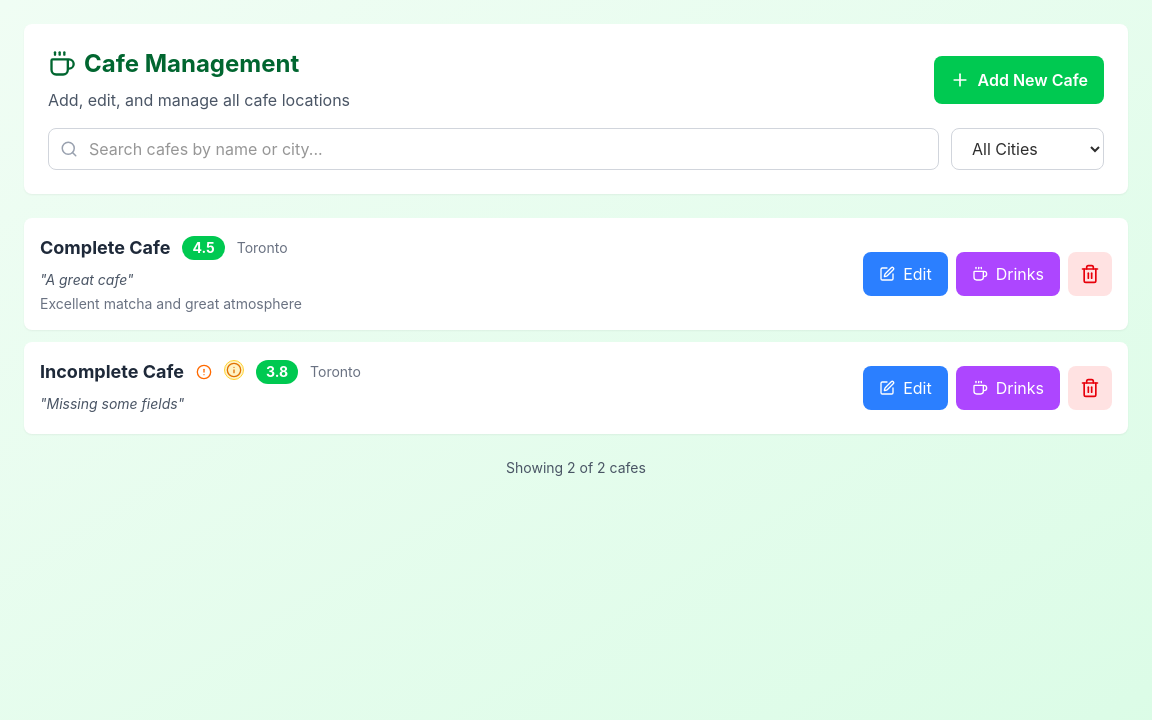
Test: CafeManagementPage › MissingFieldsIndicator › closes tooltip when clicking outside
# Click to show tooltip
Click the icon with test id "lucide-info": point(234, 370) [226,362,242,378]
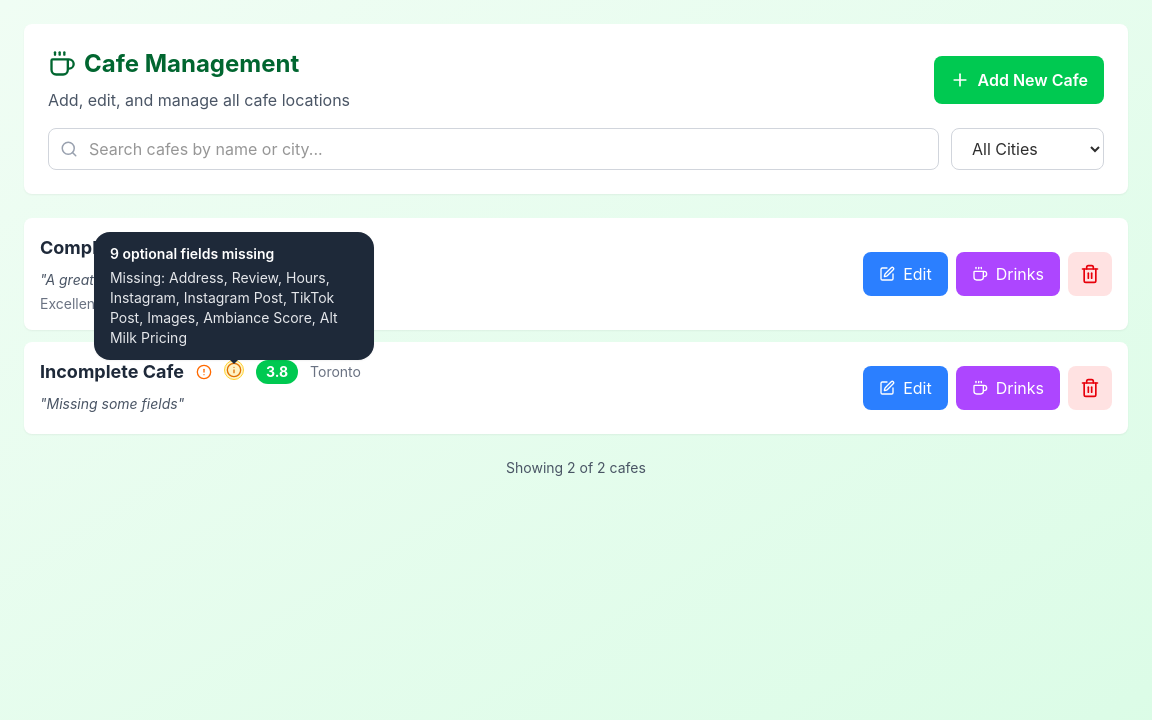
Expected: the text "9 optional fields missing" is shown, [110,245,274,262]
# Click outside
Click the element that starts with "Cafe Management": point(576, 360) [0,0,1151,719]
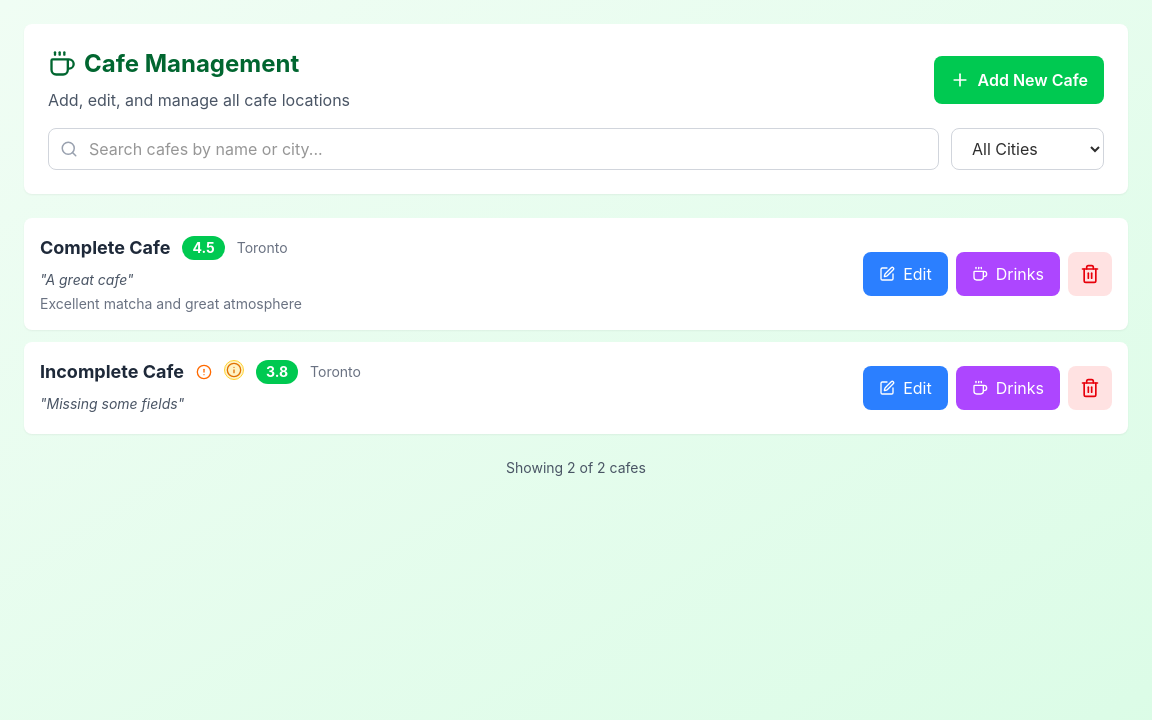
Expected: the text "9 optional fields missing" is gone
